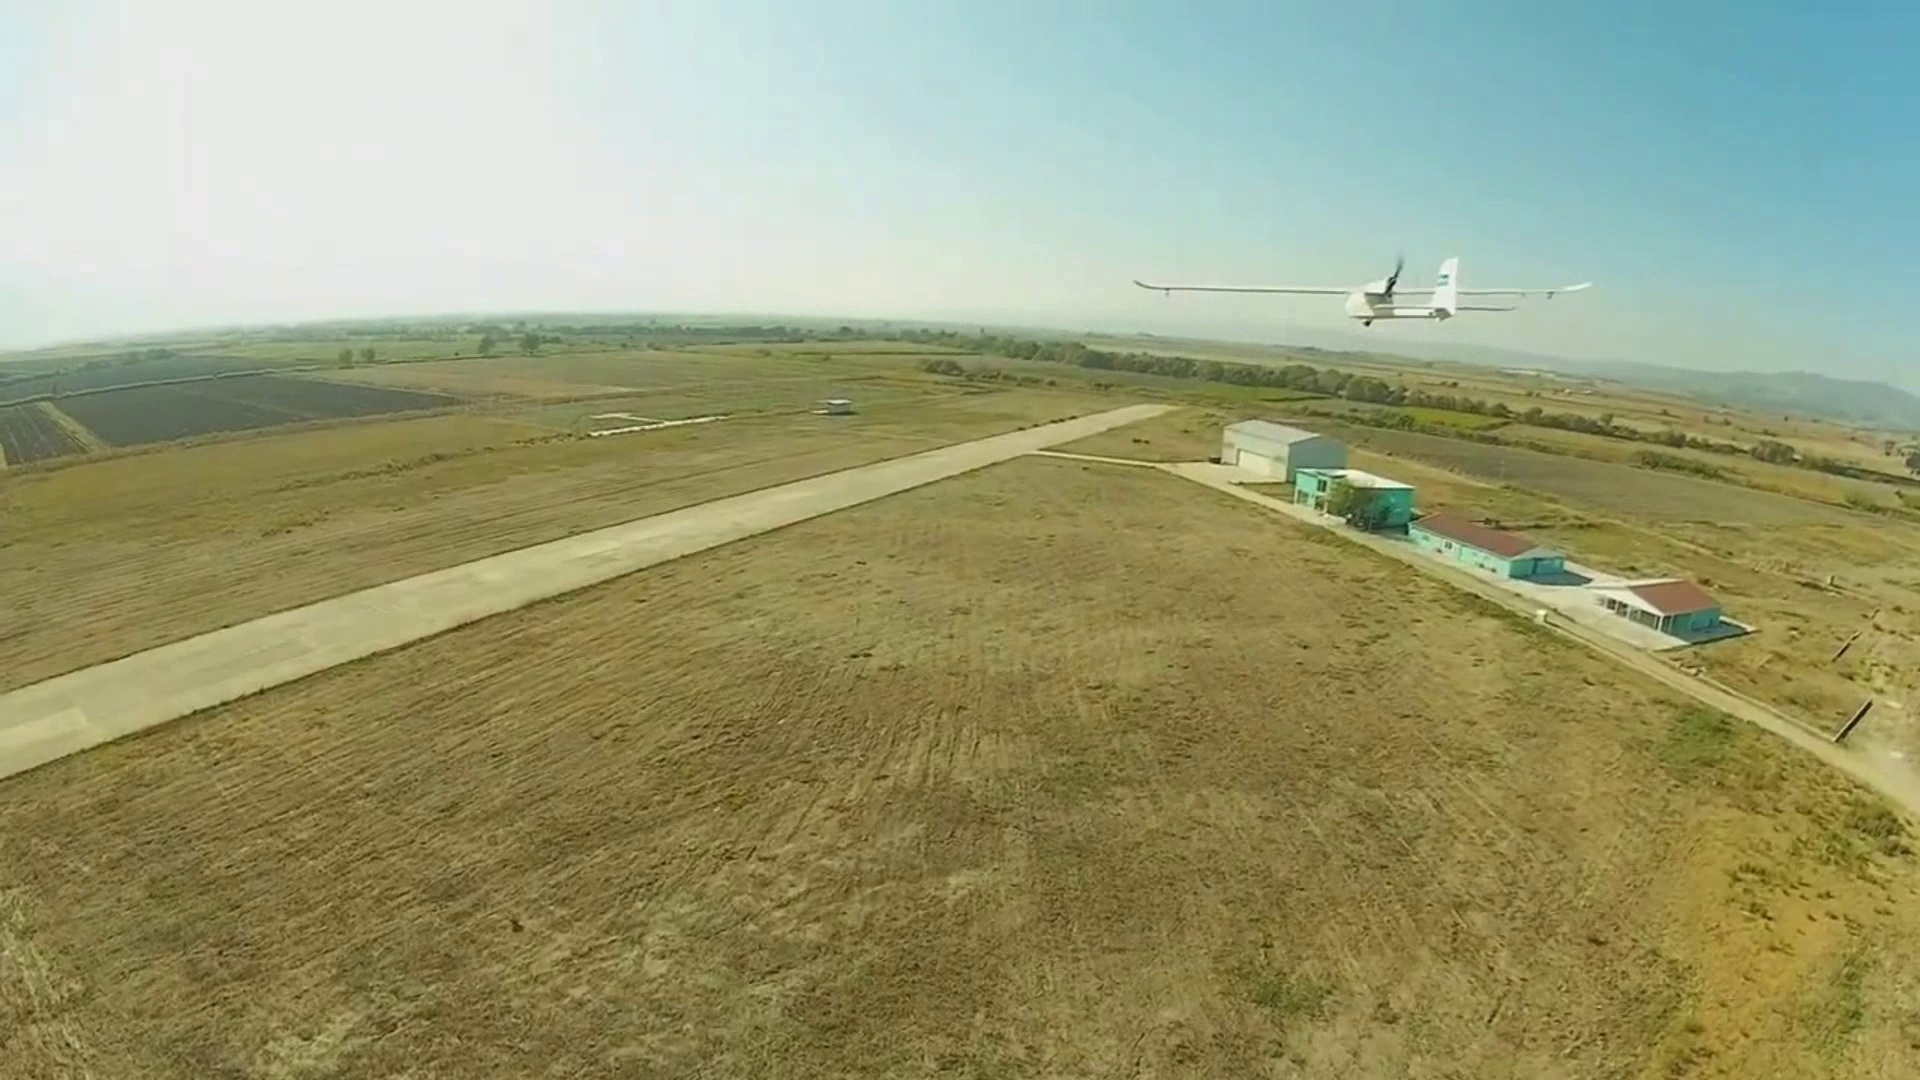airplane: (1130, 249, 1596, 331), (1344, 252, 1513, 326), (1344, 253, 1462, 326)
